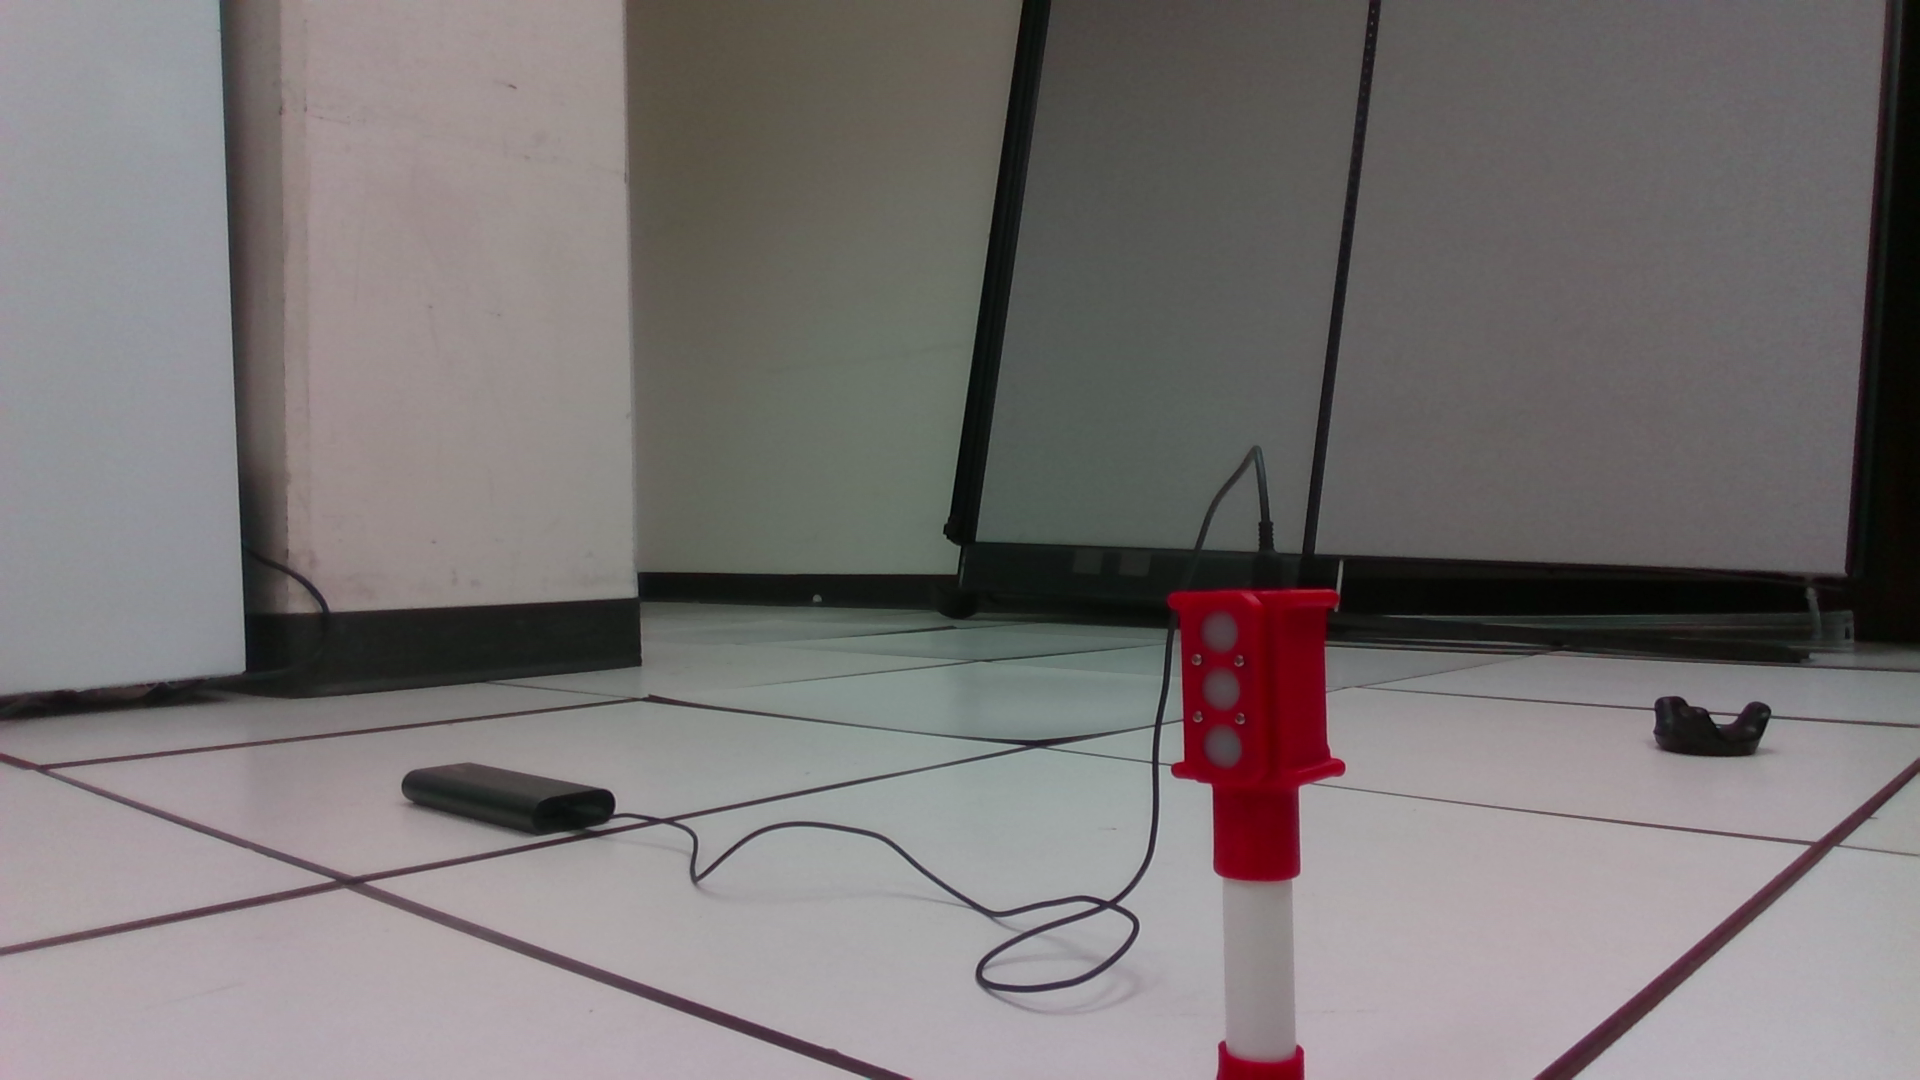stoplight: (1167, 588, 1349, 893)
